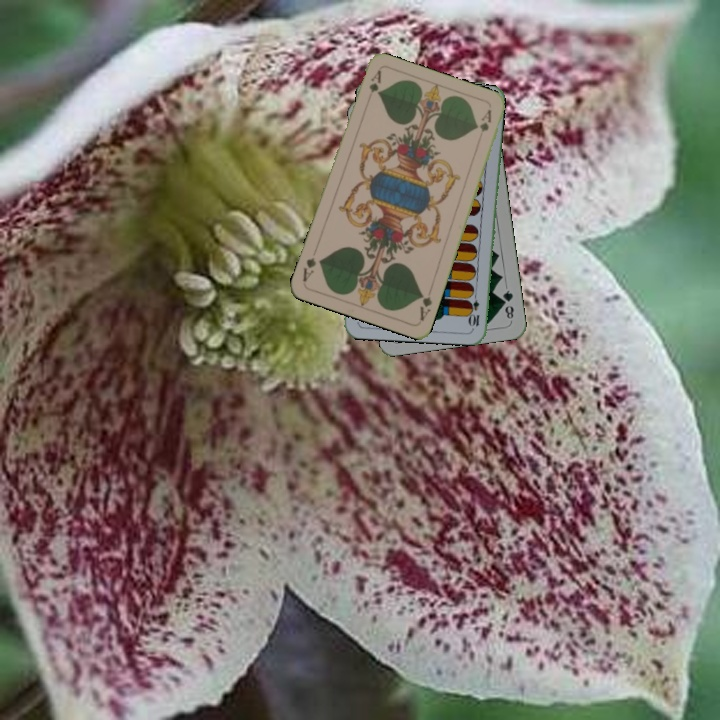E10: (467, 288, 482, 329)
G8: (498, 286, 516, 321)
GA: (364, 66, 384, 106), (416, 289, 435, 323)
